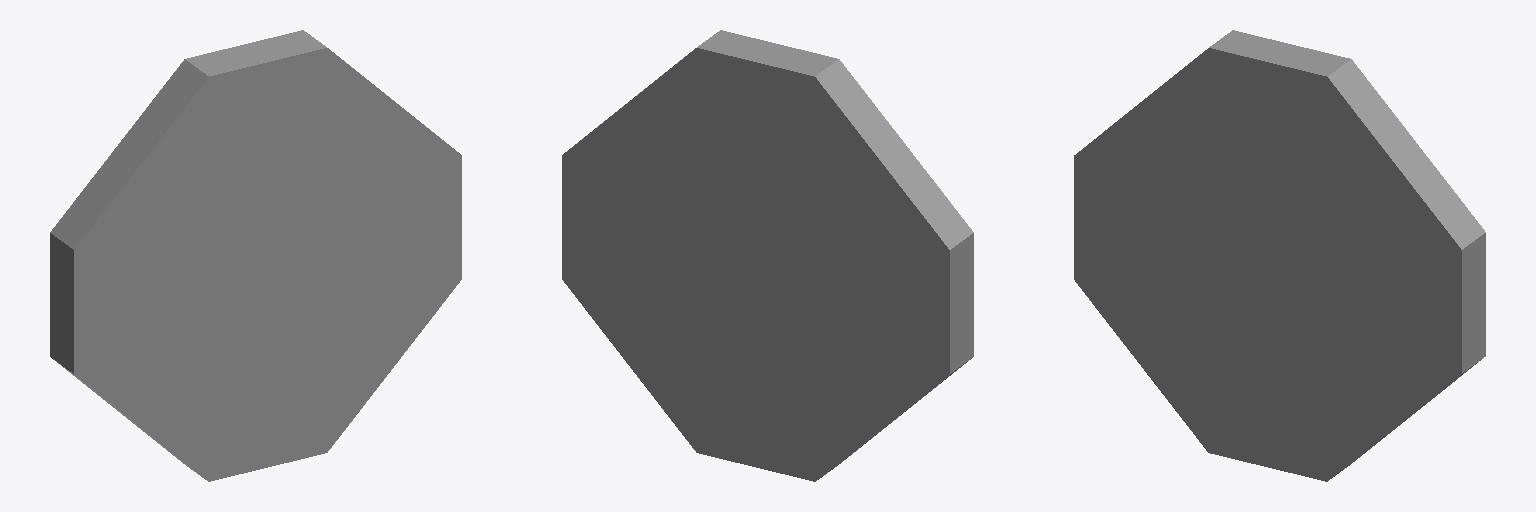
3 views of the same model, side by side, from view 1: azimuth 30°, elevation 25°; view 2: azimuth 150°, elevation 25°; view 3: azimuth 330°, elevation 25° (orthographic).
Visible parts, largest first — view 1: GoldCoin; view 2: GoldCoin; view 3: GoldCoin.
Boxes of the visible parts, x1=… form: GoldCoin: x1=50, y1=30, x2=461, y2=481; GoldCoin: x1=562, y1=30, x2=973, y2=481; GoldCoin: x1=1074, y1=30, x2=1485, y2=481.
Bounding box in the file's own units: 0.3326 × 0.332 × 0.0359.